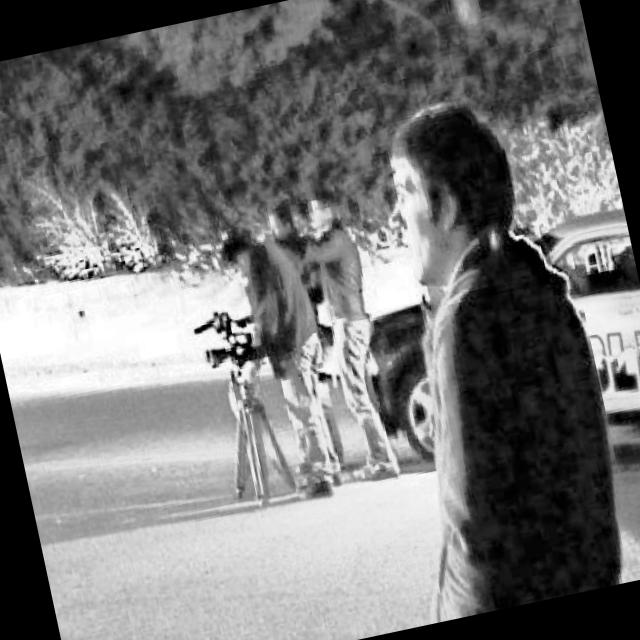Person: (319, 74, 640, 624), (208, 213, 350, 510), (290, 184, 407, 485)
